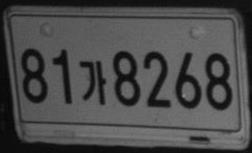1: (51, 48, 79, 104)
2: (143, 50, 171, 108)
6: (175, 51, 202, 109)
8: (204, 52, 233, 111), (112, 50, 141, 106), (20, 47, 48, 104)
가: (79, 60, 106, 104)
